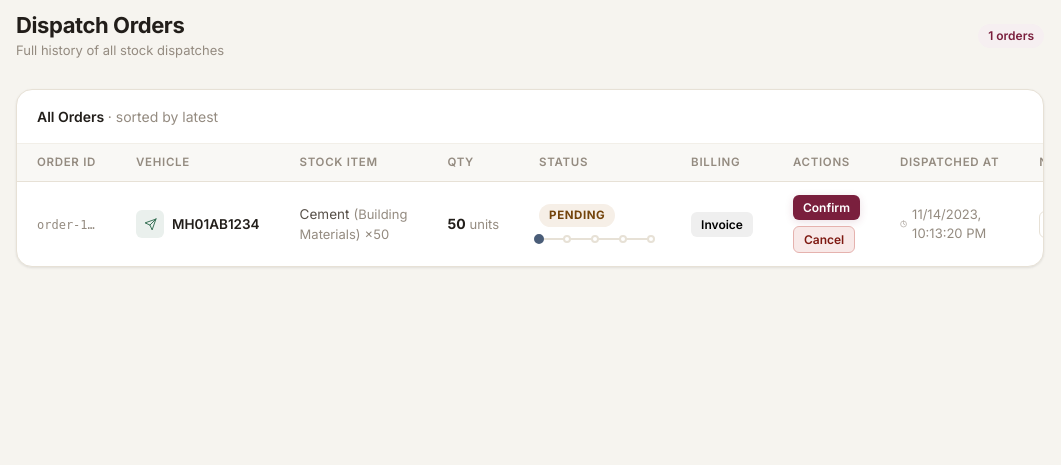
it: Dispatches page › shows an inline error and leaves the status unchanged when the API rejects a transition
The width and height of the screenshot is (1061, 465).
Expected: the text "PENDING" is shown, [539,204,615,227]
Click the button "Confirm" at (826, 208), box [793,195,860,220]
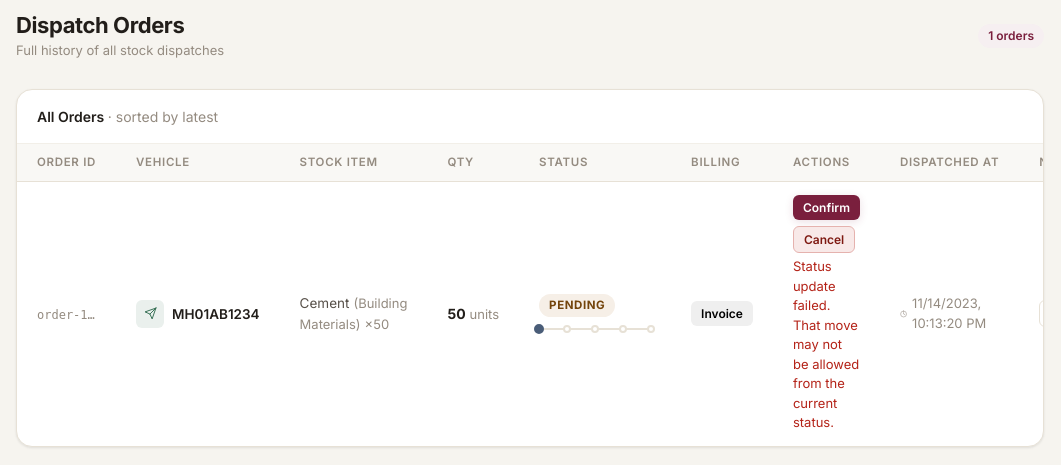
Expected: the text "PENDING" is shown, [539,294,615,317]
Now the text "Status update failed" is shown, box [793,258,859,430]
